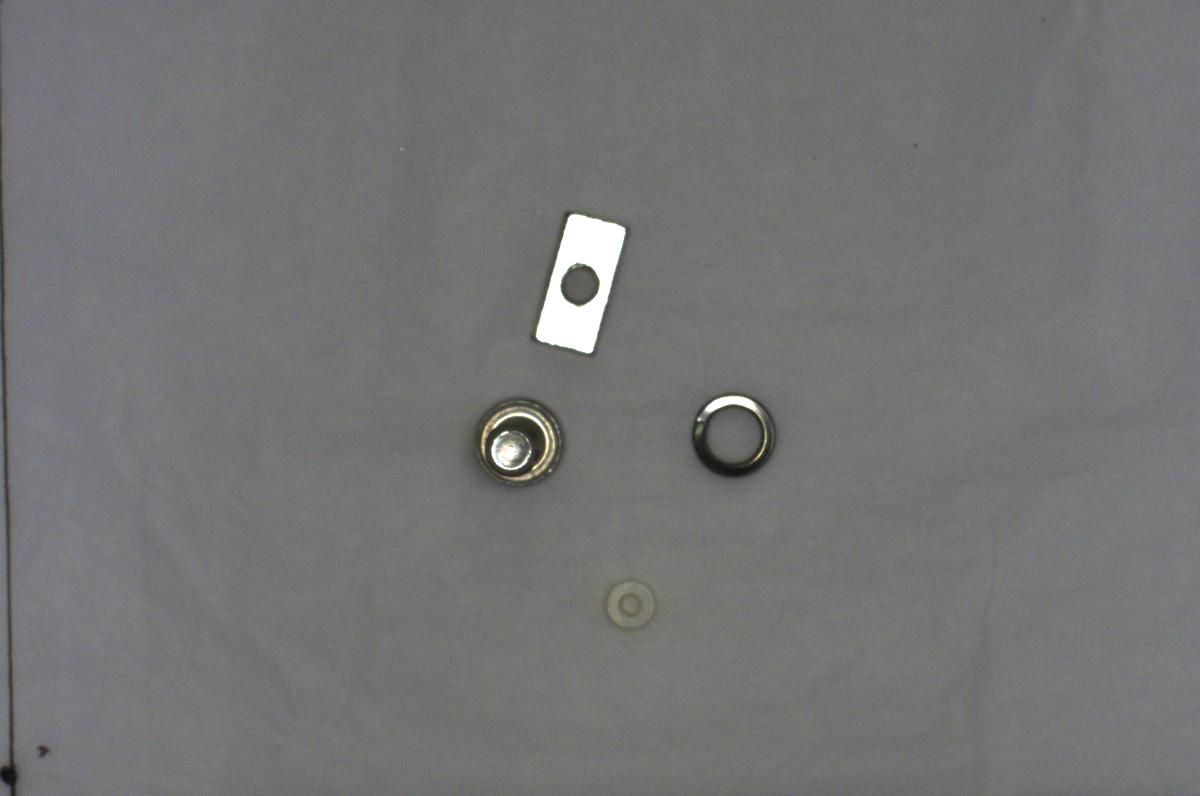Hexagon screw: (468, 381, 572, 489)
Plastic cushion pillar: (602, 570, 658, 633)
Rectangular nut: (524, 201, 626, 360)
Spring washer: (681, 386, 781, 480)
